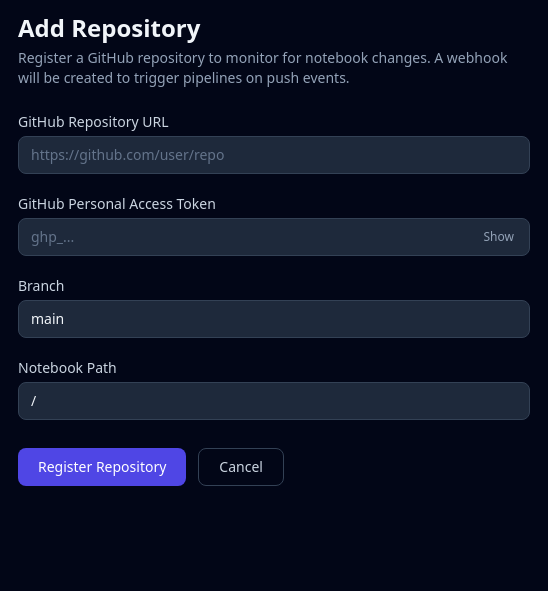
Test case: AddRepository › validates github url format and shows error for invalid URLs
// Use a valid URL format that fails the GitHub-specific regex
Type "https://gitlab.com/user/repo" into the field labelled "GitHub Repository URL". click: {"x": 274, "y": 155}
box: [18, 136, 530, 174]
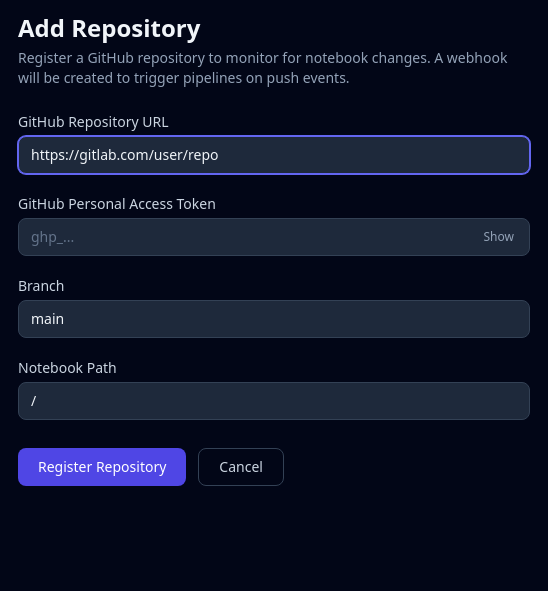
Type "ghp_test1234567890" into the password field labelled "GitHub Personal Access Token". click: {"x": 274, "y": 237}
box: [18, 218, 530, 256]
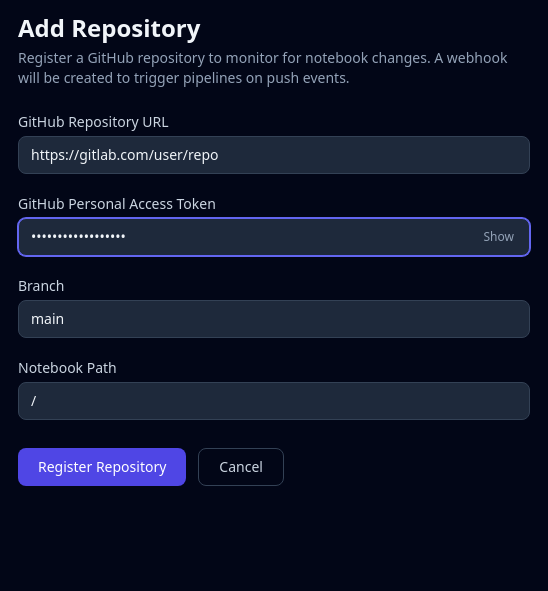
Click the button "Register Repository". click: {"x": 102, "y": 467}
box: [18, 448, 186, 486]
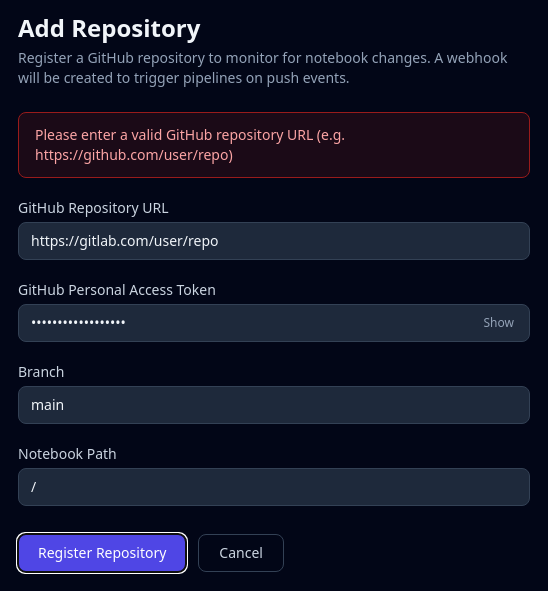
Now the text "valid GitHub repository URL" is shown, box [35, 125, 345, 164]
